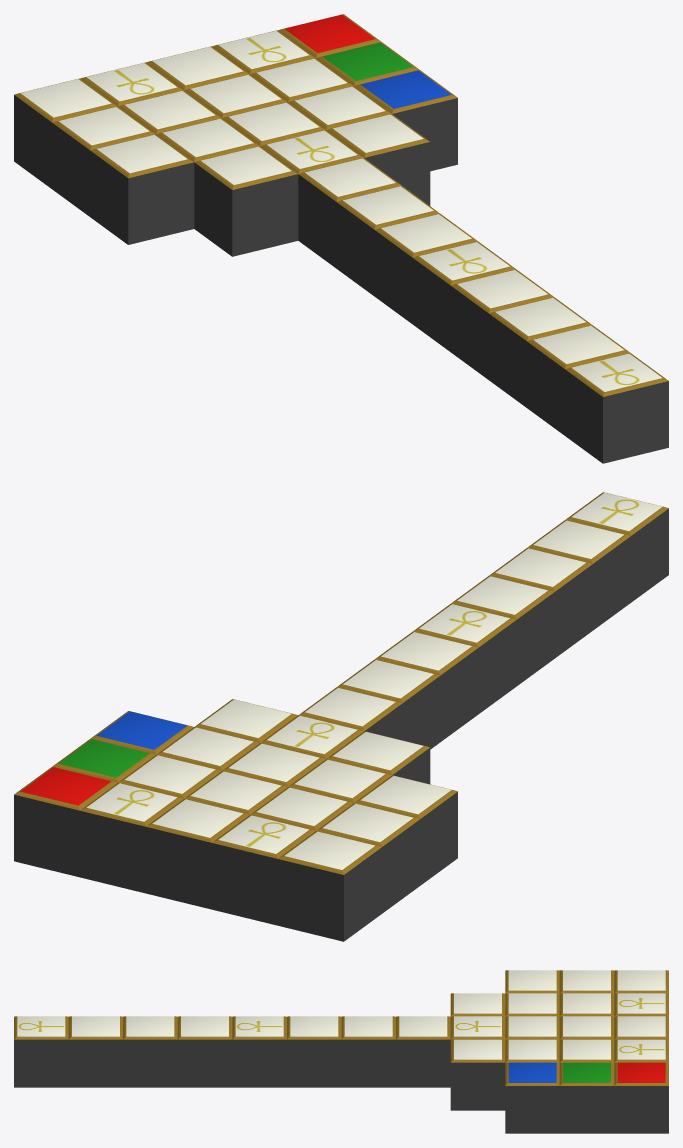
The model's file is Table.fbx.
3 views of the same model, one above another, from view 1: azimuth 30°, elevation 25°; view 2: azimuth 150°, elevation 25°; view 3: azimuth 270°, elevation 25° (orthographic). The views are drawn at different scales.
Parts seen in each view (by area): view 1: AI_Point_1, Start_AI_1, Point_12, Point_8, Point_5, Start_AI_2, Point_7, Point_6, Point_10, Point_9, Start_Blue, Point_11 (+14 smaller); view 2: Start_AI_3, Start_Red, AI_Point_4, Player_Point_4, Point_1, Point_7, Point_10, Point_11, Point_9, Point_8, Start_AI_2, Point_12 (+14 smaller); view 3: Player_Point_1, Start_Green, Point_9, Start_Blue, Start_Red, Point_7, Point_5, Point_10, Point_8, Point_12, Point_6, Point_11 (+14 smaller).
Boxes of the visible parts, x1,y1,x2,y2 form: AI_Point_1: (194,146,298,256); Start_AI_1: (90,134,194,244); Point_12: (565,353,668,463); Point_8: (412,241,515,351); Point_5: (298,158,401,268); Start_AI_2: (52,106,155,216); Point_7: (374,213,477,323); Point_6: (336,185,439,295); Point_10: (488,297,591,407); Point_9: (450,269,553,379); Start_Blue: (354,70,457,171); Point_11: (527,325,630,435); Start_AI_3: (278,831,381,941); Start_Red: (14,766,117,877); AI_Point_4: (212,815,315,925); Player_Point_4: (80,782,183,893); Point_1: (146,799,249,909); Point_7: (375,631,478,741); Point_10: (489,548,592,658); Point_11: (527,520,630,630); Point_9: (451,575,554,685); Point_8: (413,603,516,713); Start_AI_2: (316,803,419,913); Point_12: (565,492,668,602); Player_Point_1: (450,1039,505,1110); Start_Green: (559,1062,614,1133); Point_9: (177,1016,232,1087); Start_Blue: (505,1062,559,1133); Start_Red: (614,1062,668,1133); Point_7: (287,1016,341,1087); Point_5: (396,1016,450,1087); Point_10: (123,1016,177,1087); Point_8: (232,1016,286,1087); Point_12: (14,1016,68,1087); Point_6: (341,1016,395,1087); Point_11: (68,1016,122,1087).
Size of the model in its own units: 1000 by 200 by 2400.
